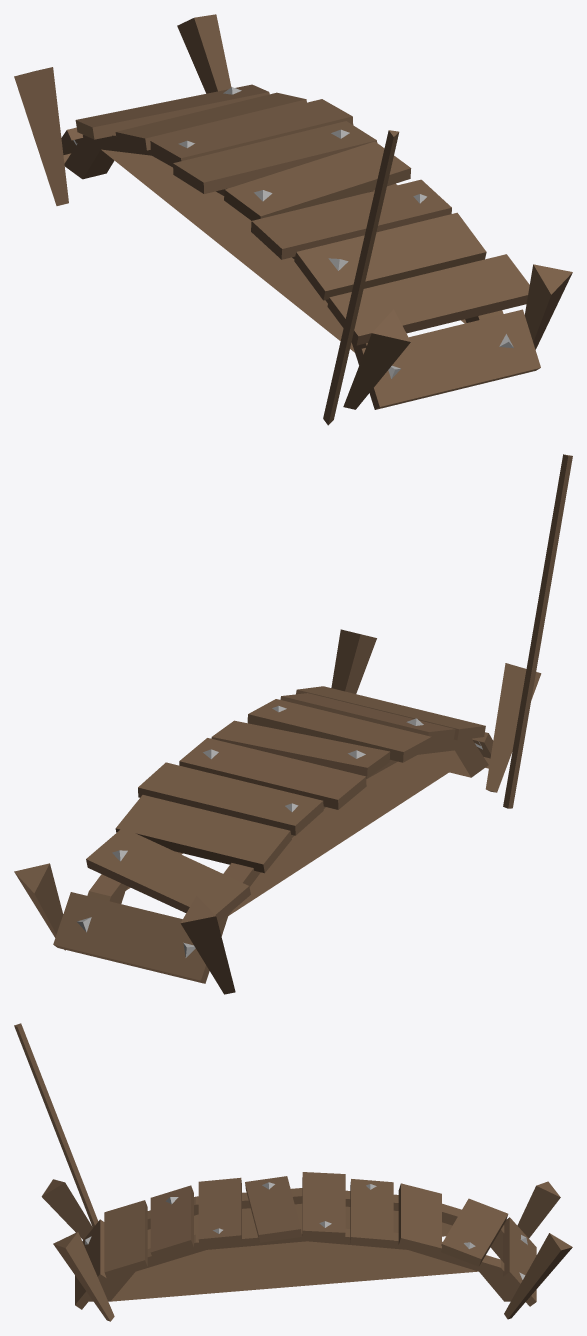
The model's file is pont_1.fbx.
3 renders of one model, top to bottom at view 1: azimuth 30°, elevation 25°; view 2: azimuth 150°, elevation 25°; view 3: azimuth 270°, elevation 25°, orthographic. The views are drawn at different scales.
Visible parts, largest first — view 1: pCylinder13, pCube12, pCube11, pCube10, pCube9, pCube8, pCube7, pCube6, pCylinder17, pCylinder18, pCube4, pCube5 (+3 smaller); view 2: pCylinder13, pCube3, pCube5, pCube4, pCube6, pCube7, pCube9, pCube8, pCylinder18, pCylinder16, pCylinder17, pCube10 (+4 smaller); view 3: pCylinder12, pCube11, pCube7, pCube6, pCube9, pCube5, pCube8, pCube10, pCube4, pCylinder13, pCylinder14, pCylinder15 (+5 smaller).
Boxes of the visible parts, bbox=[...] form: pCylinder13: bbox=[64, 135, 367, 365]; pCube12: bbox=[357, 309, 540, 409]; pCube11: bbox=[327, 254, 529, 345]; pCube10: bbox=[294, 212, 486, 300]; pCube9: bbox=[251, 179, 451, 259]; pCube8: bbox=[224, 141, 411, 220]; pCube7: bbox=[173, 121, 377, 193]; pCube6: bbox=[150, 99, 353, 164]; pCylinder17: bbox=[14, 67, 68, 205]; pCylinder18: bbox=[323, 130, 399, 425]; pCube4: bbox=[75, 84, 269, 139]; pCube5: bbox=[115, 92, 306, 150]; pCylinder13: bbox=[218, 738, 488, 936]; pCube3: bbox=[53, 892, 222, 983]; pCube5: bbox=[115, 795, 291, 873]; pCube4: bbox=[86, 827, 250, 922]; pCube6: bbox=[138, 762, 323, 835]; pCube7: bbox=[179, 738, 366, 809]; pCube9: bbox=[247, 699, 431, 762]; pCube8: bbox=[211, 720, 390, 778]; pCylinder18: bbox=[503, 454, 572, 808]; pCylinder16: bbox=[485, 663, 541, 792]; pCylinder17: bbox=[180, 896, 235, 994]; pCube10: bbox=[280, 693, 455, 742]; pCylinder12: bbox=[89, 1226, 516, 1301]; pCube11: bbox=[104, 1200, 147, 1279]; pCube7: bbox=[302, 1172, 345, 1240]; pCube6: bbox=[350, 1179, 393, 1248]; pCube9: bbox=[198, 1177, 241, 1246]; pCube5: bbox=[398, 1183, 441, 1255]; pCube8: bbox=[245, 1176, 301, 1242]; pCube10: bbox=[150, 1185, 193, 1259]; pCube4: bbox=[441, 1198, 508, 1266]; pCylinder13: bbox=[147, 1188, 504, 1261]; pCylinder14: bbox=[53, 1232, 114, 1321]; pCylinder15: bbox=[504, 1233, 572, 1319].
Size of the model in its own units: 1.7 by 2.56 by 5.49.
